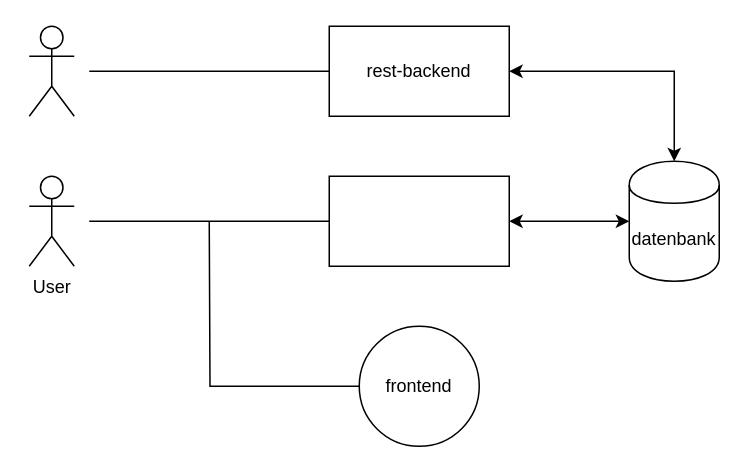
This 746x473 diagram has some shape labels left out. Here are the shapes that lost their labels. From the top down, the centre of each, then its label:
point (51, 70): Admin
point (418, 220): socket-backend
